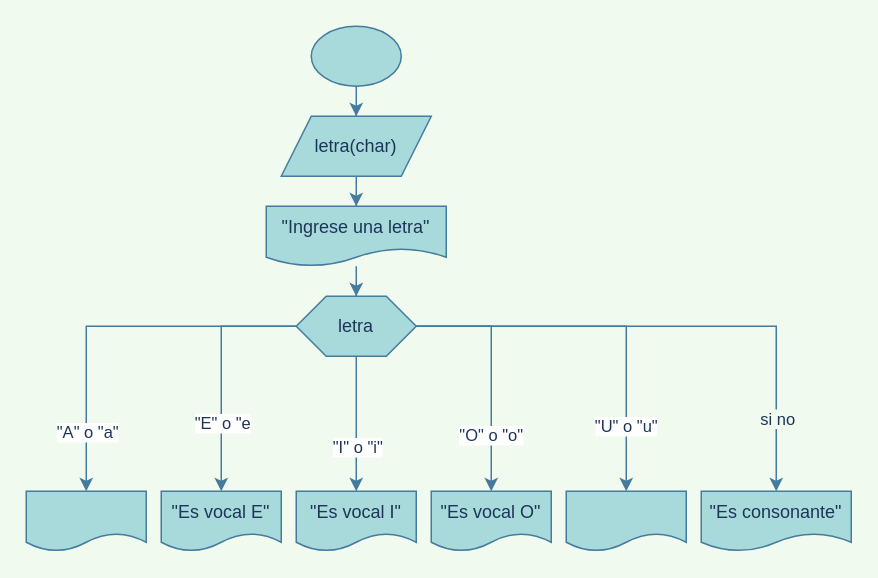
Image size: 878x578. Some labels were removed from this diagram. Here are the shapes that lost their labels. From the top down, the box of each, then its label:
(310, 25, 401, 86): Inicio
(25, 490, 146, 551): "Es vocal A"
(565, 490, 686, 551): "Es vocal U"
